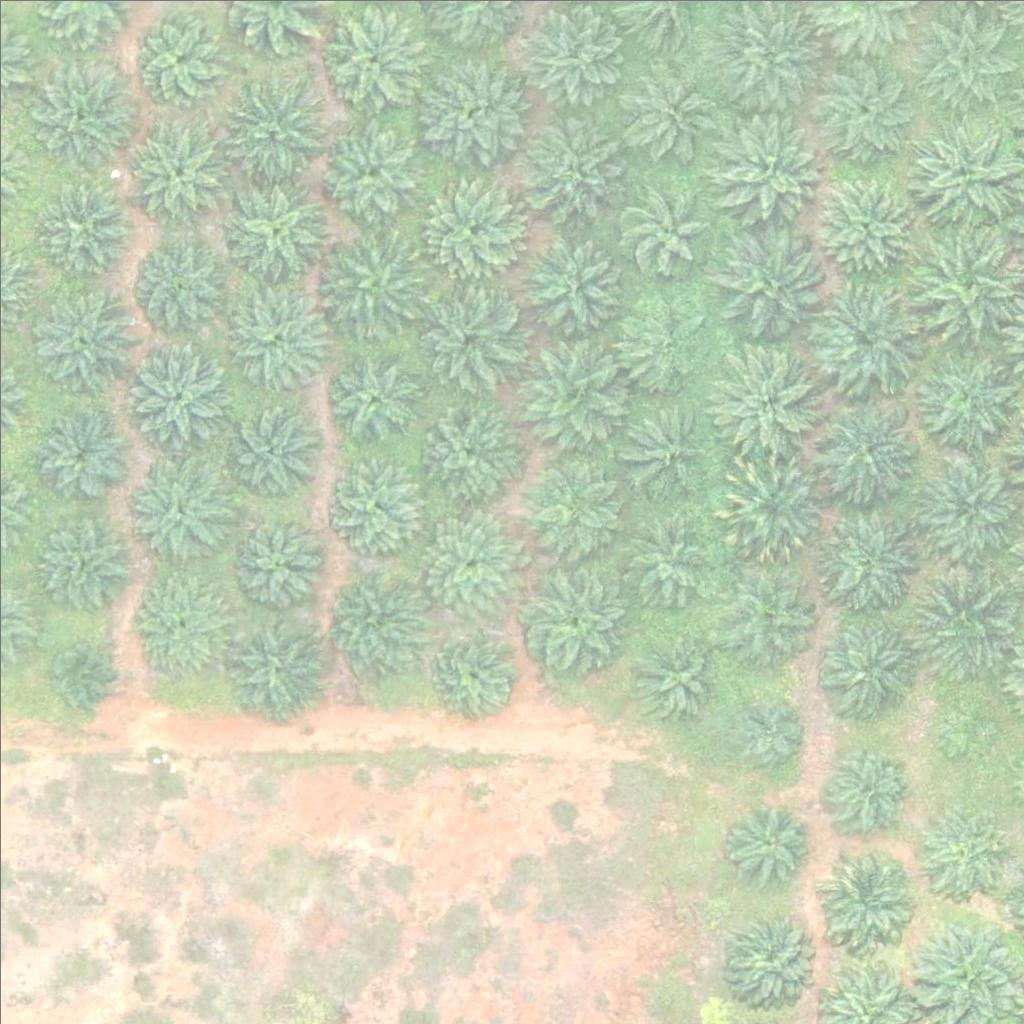Kelapa_Sawit: (412, 504, 525, 618), (408, 392, 521, 506), (311, 228, 424, 342), (219, 171, 332, 285), (211, 72, 324, 186), (714, 449, 827, 562), (811, 608, 924, 721), (710, 345, 823, 458), (715, 228, 828, 341), (711, 106, 824, 219), (24, 282, 137, 395), (222, 278, 334, 392), (25, 56, 137, 170), (811, 500, 923, 613), (910, 571, 1022, 684), (907, 112, 1019, 225), (812, 279, 924, 392), (808, 55, 920, 168), (511, 335, 623, 448), (513, 227, 625, 340), (409, 278, 521, 391), (410, 54, 522, 167), (218, 608, 330, 721), (118, 338, 230, 451), (719, 564, 819, 665), (908, 801, 1008, 902), (818, 399, 918, 500), (815, 176, 915, 277), (517, 115, 617, 216), (419, 179, 519, 280), (322, 565, 422, 666), (317, 122, 417, 223), (221, 506, 321, 607), (219, 400, 319, 501), (128, 568, 228, 669), (126, 462, 226, 563), (32, 510, 132, 611), (29, 402, 129, 503), (31, 178, 131, 279), (324, 7, 424, 108), (719, 907, 819, 1007), (818, 847, 918, 947), (526, 566, 626, 666), (513, 456, 613, 556), (322, 457, 422, 557), (319, 346, 419, 446), (127, 235, 227, 335), (125, 118, 225, 218), (128, 8, 228, 108), (726, 795, 814, 883), (631, 633, 719, 721), (620, 403, 708, 491), (616, 513, 703, 601), (825, 743, 912, 831), (617, 299, 704, 387), (622, 185, 709, 273), (621, 69, 708, 157), (431, 630, 518, 718), (46, 645, 109, 708), (738, 700, 801, 763), (937, 697, 999, 760)
